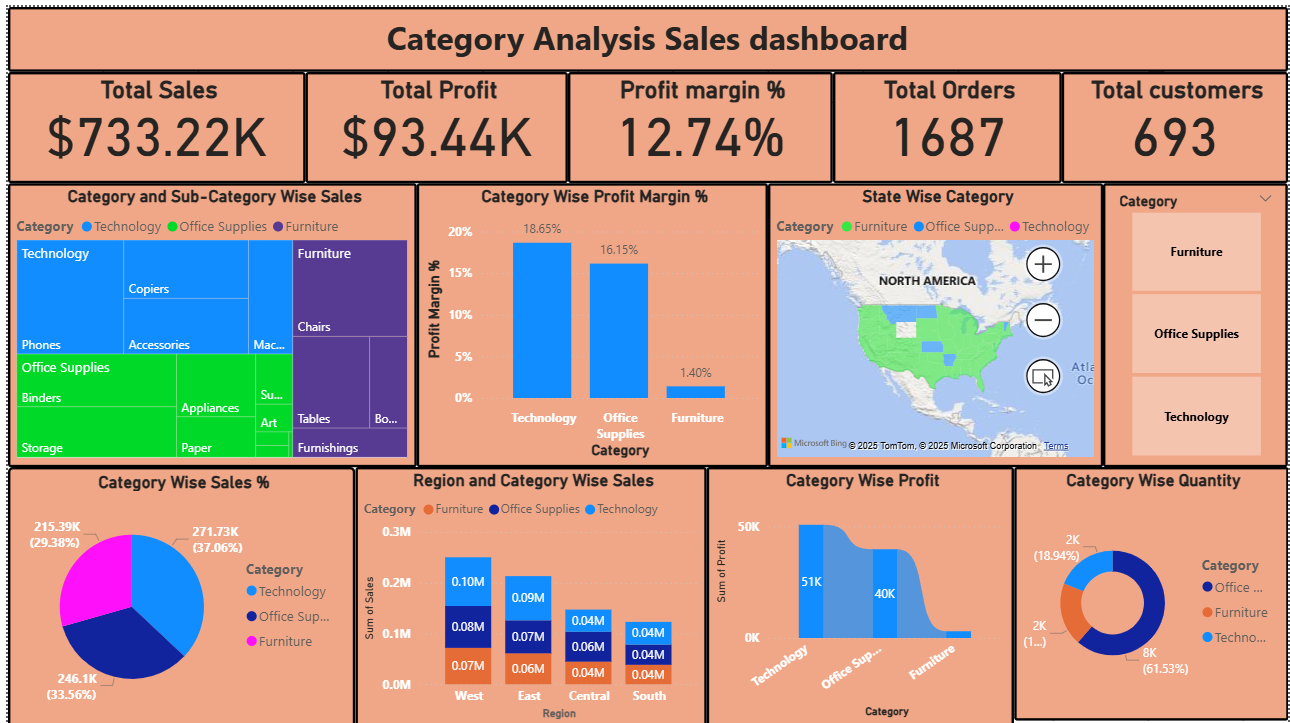

What the dashboard file says about the page in this screenshot:
{"tool":"powerbi","page":{"name":"Category Analysis Sales dashboard","canvas":[1280,720],"ordinal":1},"visuals":[{"type":"treemap","title":"Category and Sub-Category Wise Sales","fields":{"Group":["Superstore.Category"],"Details":["Superstore.Sub-Category"],"Values":["Sum(Superstore.Sales)"]},"box":[0,176.2,408.8,283.8],"z":0},{"type":"columnChart","title":"Region and Category Wise Sales","fields":{"Category":["Superstore.Region"],"Y":["Sum(Superstore.Sales)"],"Series":["Superstore.Category"]},"box":[347.5,460,351.2,261.2],"z":1000},{"type":"pieChart","title":"Category Wise Sales %","fields":{"Category":["Superstore.Category"],"Y":["Sum(Superstore.Sales)"]},"box":[0,460,347.5,261.2],"z":2000},{"type":"donutChart","title":"Category Wise Quantity","fields":{"Category":["Superstore.Category"],"Y":["Superstore.Total Quantity"]},"box":[1006.2,460,273.8,260],"z":3000},{"type":"columnChart","title":"Category Wise Profit Margin % ","fields":{"Category":["Superstore.Category"],"Y":["Superstore.Profit Margin %"]},"box":[408.8,176.2,351.2,283.8],"z":4000},{"type":"slicer","fields":{"Values":["Superstore.Order Year"]},"box":[1127,33.4,140.5,173.9],"z":5000},{"type":"textbox","box":[0,0,1280,65],"z":6000},{"type":"card","title":"Total Sales","fields":{"Values":["Superstore.Total Sales"]},"box":[0,65,297.5,111.2],"z":8000},{"type":"card","title":"Total Profit","fields":{"Values":["Superstore.Total Profit"]},"box":[297.5,65,262.5,111.2],"z":9000},{"type":"card","title":"Profit margin %","fields":{"Values":["Superstore.Profit Margin %"]},"box":[560,65,265,111.2],"z":10000},{"type":"card","title":"Total Orders","fields":{"Values":["Superstore.Total Orders"]},"box":[825,65,228.8,111.2],"z":11000},{"type":"card","title":"Total customers","fields":{"Values":["Superstore.Total Customers"]},"box":[1053.8,65,226.2,111.2],"z":12000},{"type":"ribbonChart","title":"Category Wise Profit","fields":{"Category":["Superstore.Category"],"Y":["Sum(Superstore.Profit)"]},"box":[698.8,460,307.5,260],"z":13000},{"type":"slicer","fields":{"Values":["Superstore.Category"]},"box":[1095,176.2,185,283.8],"z":14000},{"type":"filledMap","title":"State Wise Category","fields":{"Category":["Superstore.State"],"Series":["Superstore.Category"]},"box":[760,176.2,335,283.8],"z":15000}]}

Visuals, with their boxes in screenshot pixels (x1, y1, x2, y2), scaled from the page's 1280x720 canvas onto the 1290x723 screenshot:
"Category and Sub-Category Wise Sales" treemap: 0/177/412/462
"Region and Category Wise Sales" columnChart: 350/462/704/722
"Category Wise Sales %" pieChart: 0/462/350/722
"Category Wise Quantity" donutChart: 1014/462/1289/722
"Category Wise Profit Margin % " columnChart: 412/177/766/462
slicer - Superstore.Order Year: 1136/34/1277/208
textbox: 0/0/1289/65
"Total Sales" card: 0/65/300/177
"Total Profit" card: 300/65/564/177
"Profit margin %" card: 564/65/831/177
"Total Orders" card: 831/65/1062/177
"Total customers" card: 1062/65/1289/177
"Category Wise Profit" ribbonChart: 704/462/1014/722
slicer - Superstore.Category: 1104/177/1289/462
"State Wise Category" filledMap: 766/177/1104/462
